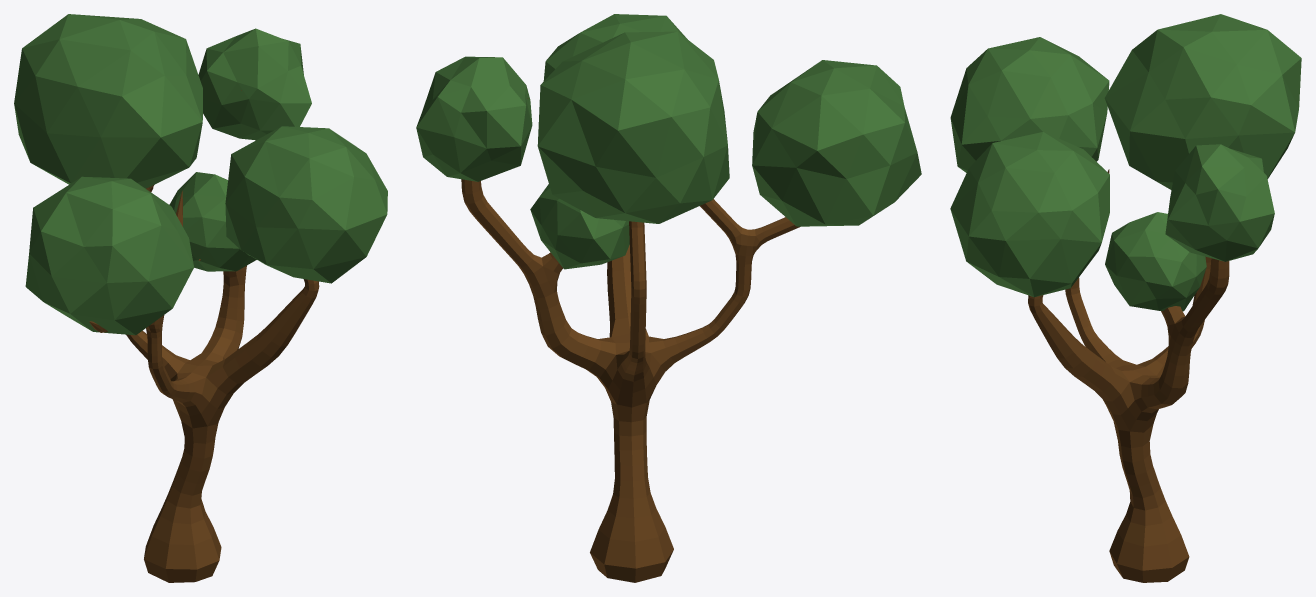
File: tree.fbx
3 views of the same model, side by side, from view 1: azimuth 30°, elevation 25°; view 2: azimuth 150°, elevation 25°; view 3: azimuth 270°, elevation 25° (orthographic). The views are drawn at different scales.
Visible parts, largest first — view 1: Icosphere.015, Icosphere.016, Icosphere.019, Plane.004, Icosphere.017, Icosphere.018; view 2: Icosphere.015, Plane.004, Icosphere.016, Icosphere.017, Icosphere.018, Icosphere.019; view 3: Icosphere.015, Icosphere.019, Plane.004, Icosphere.016, Icosphere.017, Icosphere.018.
Boxes of the visible parts, x1,y1,x2,y2 form: Icosphere.015: [14, 14, 202, 188]; Icosphere.016: [25, 176, 193, 335]; Icosphere.019: [225, 126, 387, 283]; Plane.004: [89, 90, 319, 582]; Icosphere.017: [198, 28, 311, 140]; Icosphere.018: [169, 172, 256, 271]; Icosphere.015: [537, 31, 729, 223]; Plane.004: [461, 98, 800, 582]; Icosphere.016: [752, 60, 921, 226]; Icosphere.017: [416, 56, 532, 181]; Icosphere.018: [530, 184, 629, 269]; Icosphere.019: [543, 14, 687, 80]; Icosphere.015: [1104, 14, 1301, 189]; Icosphere.019: [950, 132, 1109, 297]; Plane.004: [1028, 169, 1229, 582]; Icosphere.016: [950, 37, 1109, 172]; Icosphere.017: [1165, 144, 1274, 261]; Icosphere.018: [1105, 212, 1206, 311].
Bounding box in the file's own units: 322 × 466 × 280.
